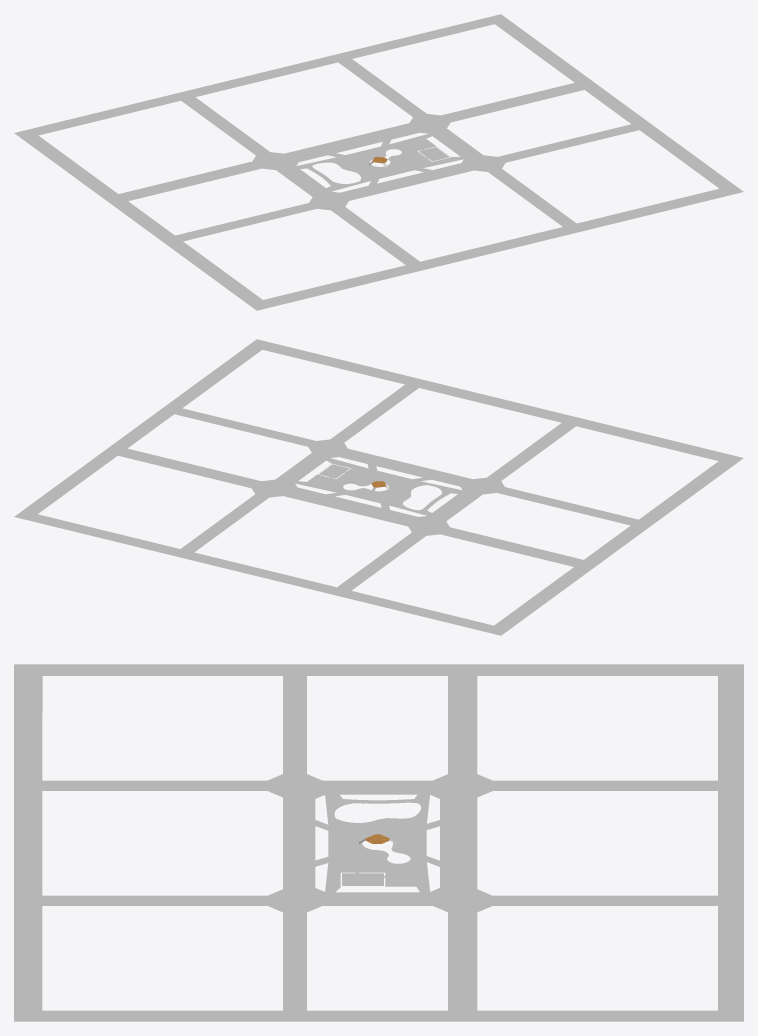
The model's file is navMesh.FBX.
3 renders of one model, top to bottom at view 1: azimuth 30°, elevation 25°; view 2: azimuth 150°, elevation 25°; view 3: azimuth 270°, elevation 25°, orthographic. The views are drawn at different scales.
Parts seen in each view (by area): view 1: Plane008; view 2: Plane008; view 3: Plane008.
Boxes of the visible parts, left/top/right/bottom form: Plane008: left=14, top=14, right=743, bottom=310; Plane008: left=14, top=339, right=743, bottom=635; Plane008: left=14, top=664, right=743, bottom=1021.
Bounding box in the file's own units: 237 × 1.22 × 204.
